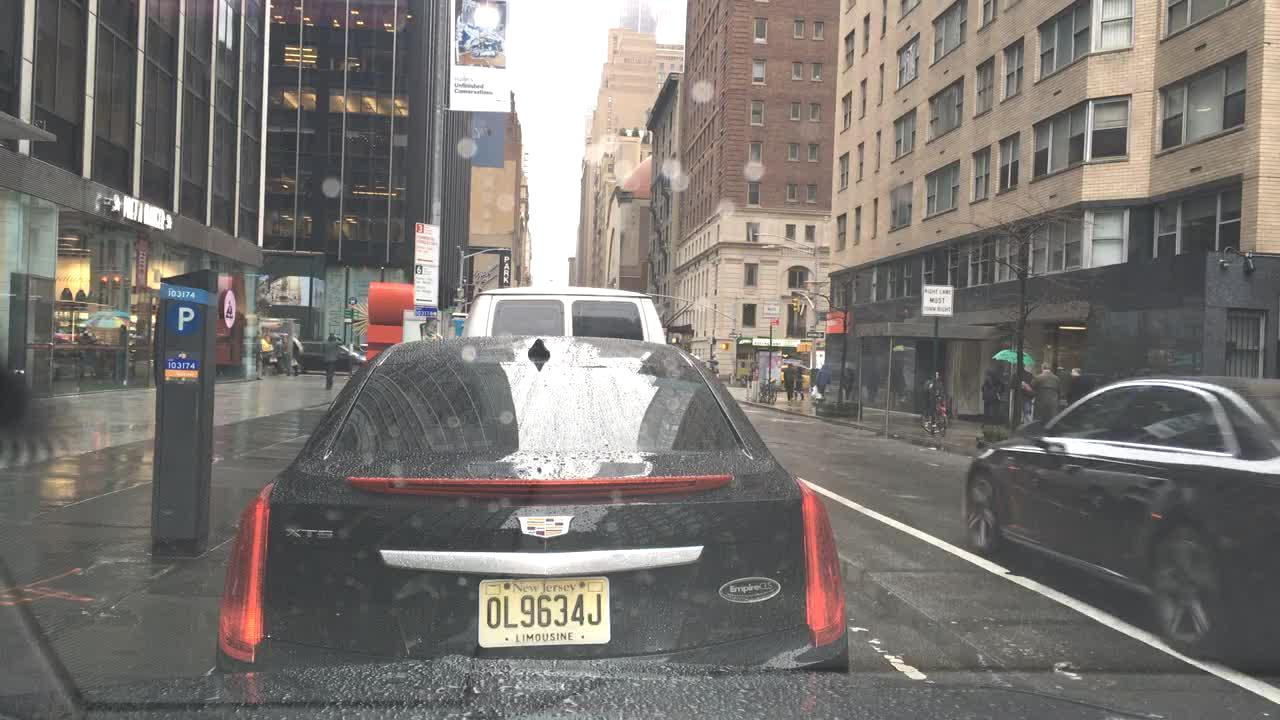cadillac: (513, 510, 577, 542)
